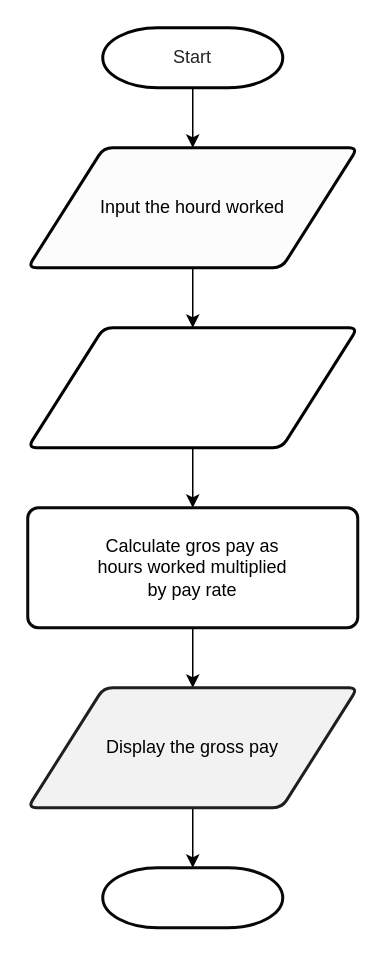
Some shapes in this 384 by 954 pixel diagram are drawn without their labels. Here are the shapes that lost their labels. From the top down, the centre of each, then its label:
[192,387]: Input the hourly pay rate
[192,897]: End
